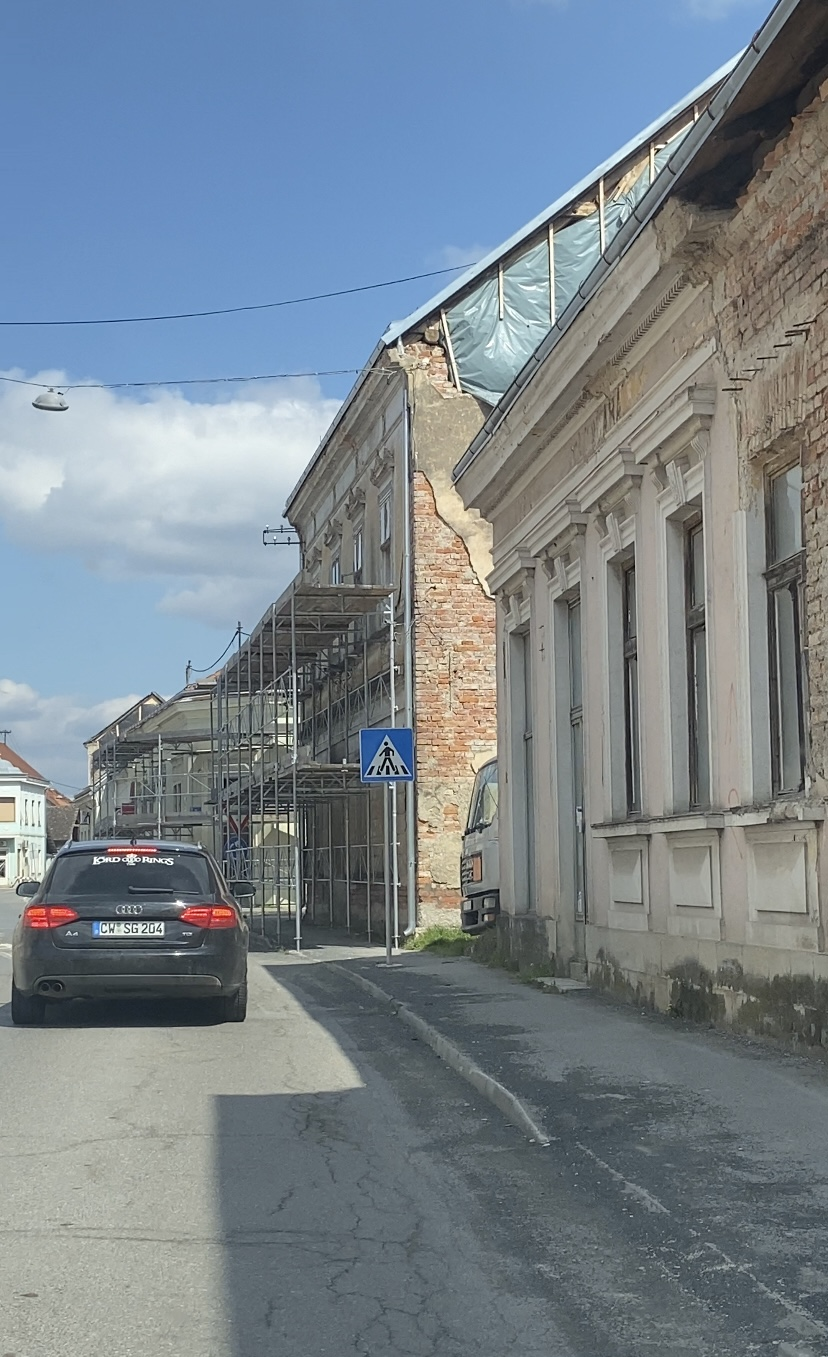Pješački prijelaz: (359, 728, 415, 783)
